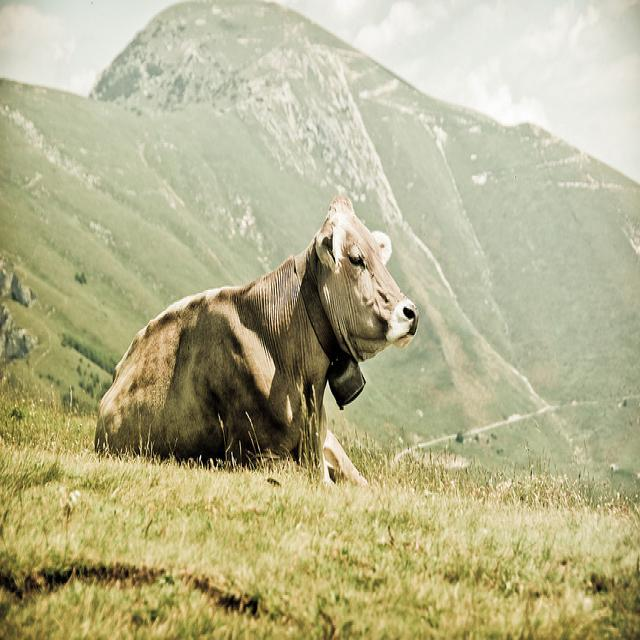cow: (92, 191, 418, 485)
